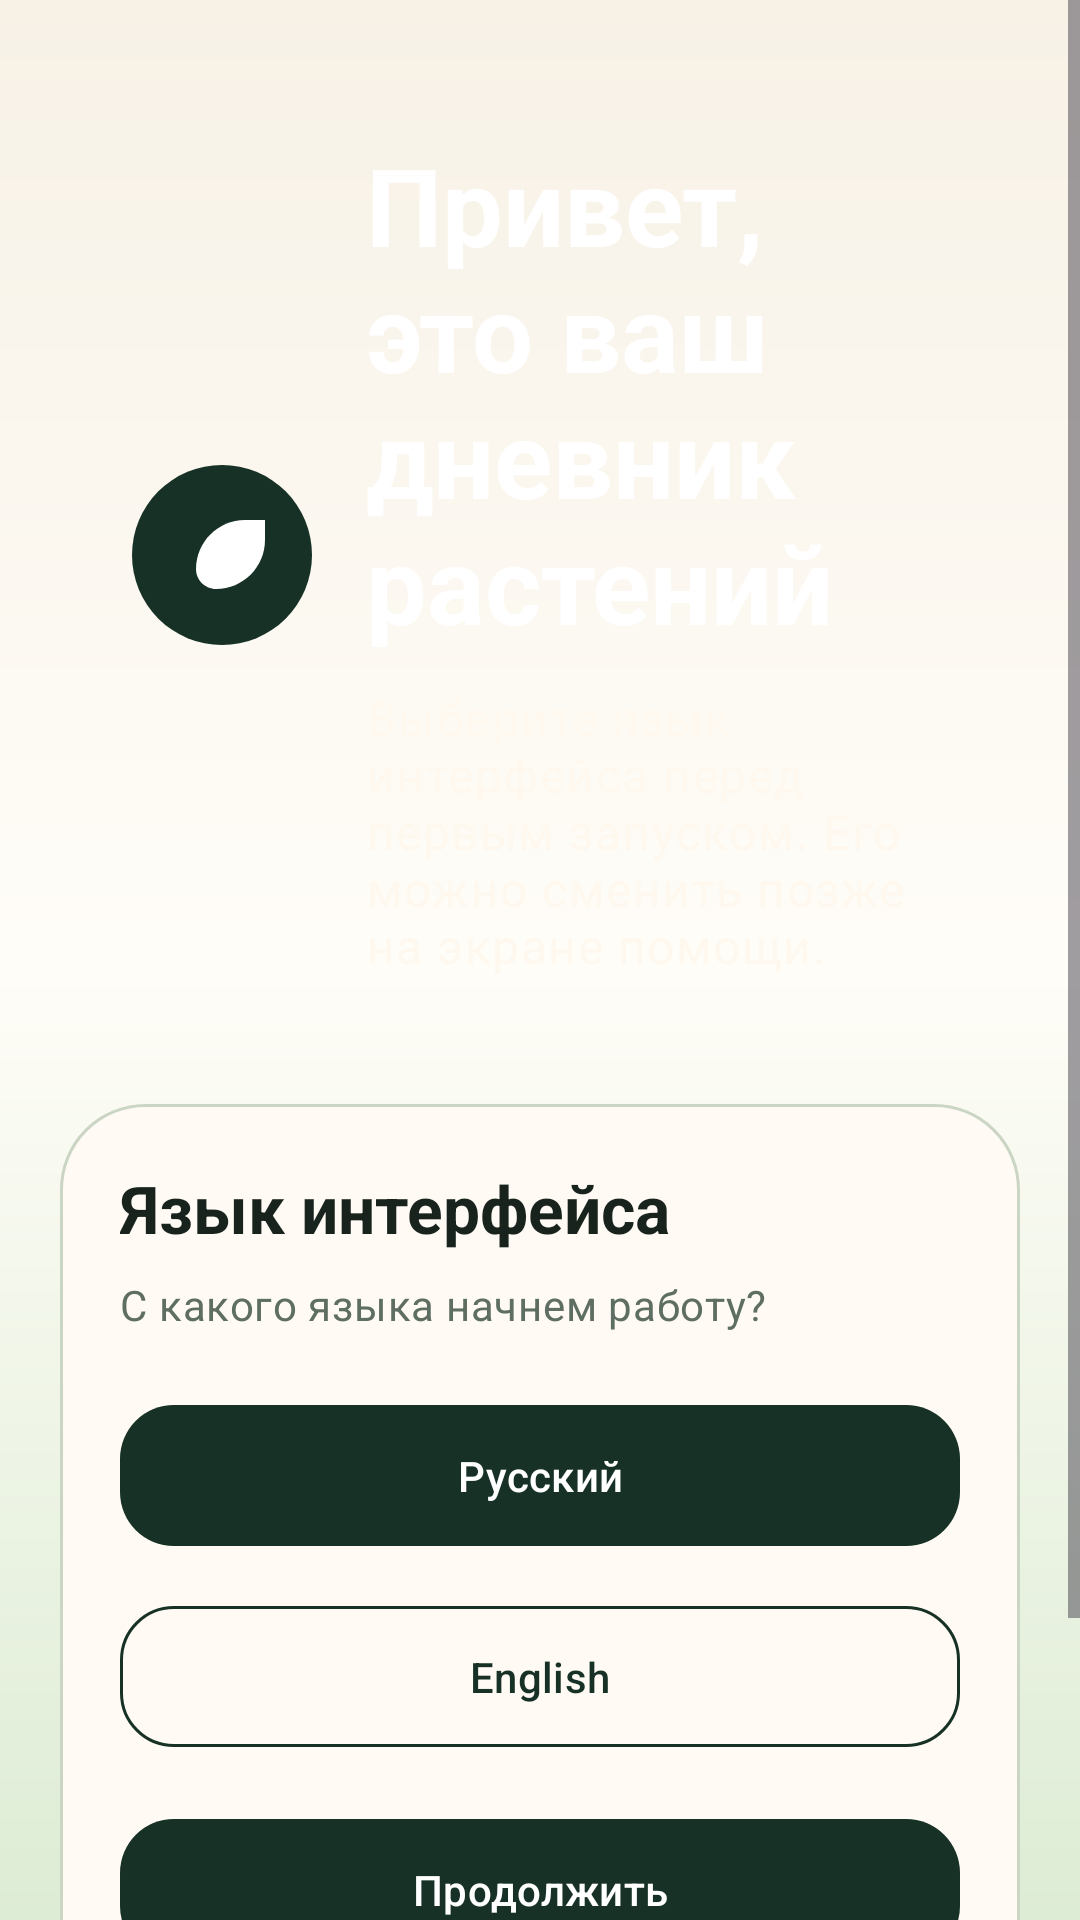

Locate icon controls on the screen. Image size 1080px x 1920px, boxes as bbox=[x1, y1, x2, y2].
plant leaf: bbox=[132, 465, 312, 645]
